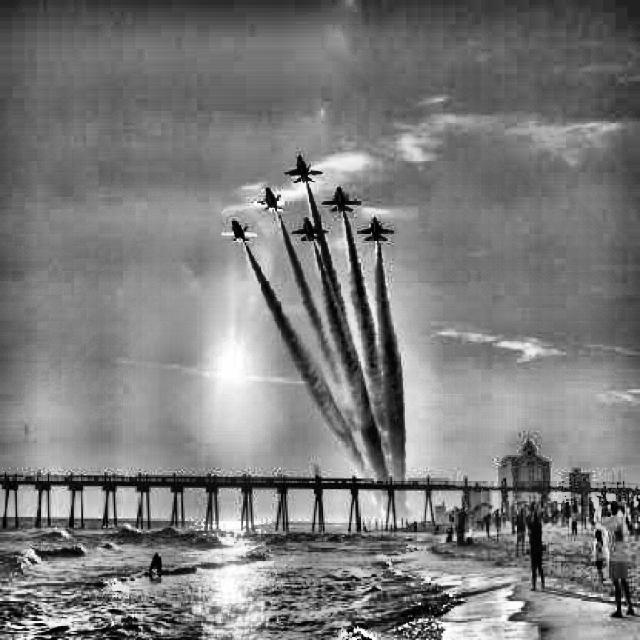F18: (282, 155, 322, 183), (252, 186, 292, 212), (322, 186, 360, 212), (356, 217, 395, 241), (290, 217, 328, 241), (220, 219, 258, 243)
